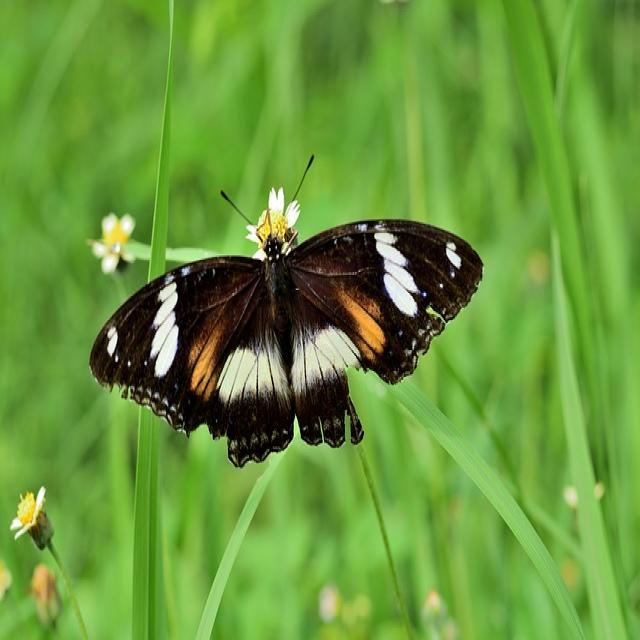butterfly: (87, 191, 485, 469)
